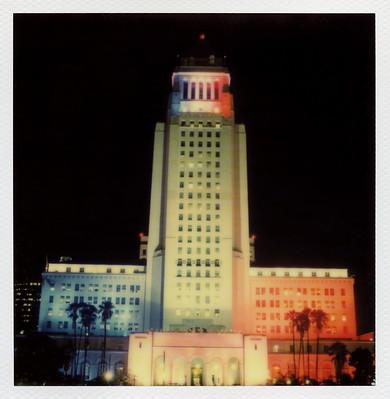building: (142, 60, 253, 341)
